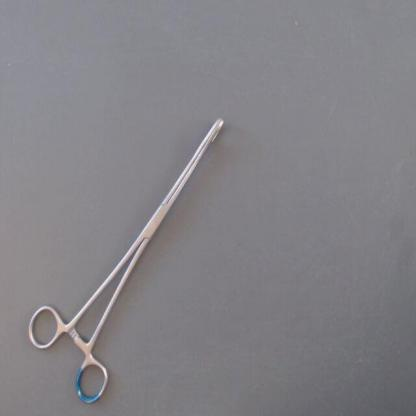Sponge Forceps: (20, 102, 238, 411)
